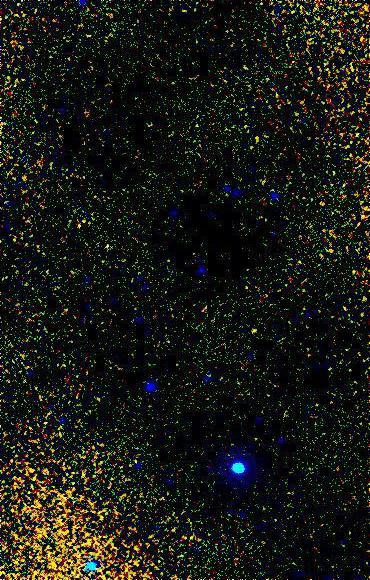star: (242, 318, 272, 348)
